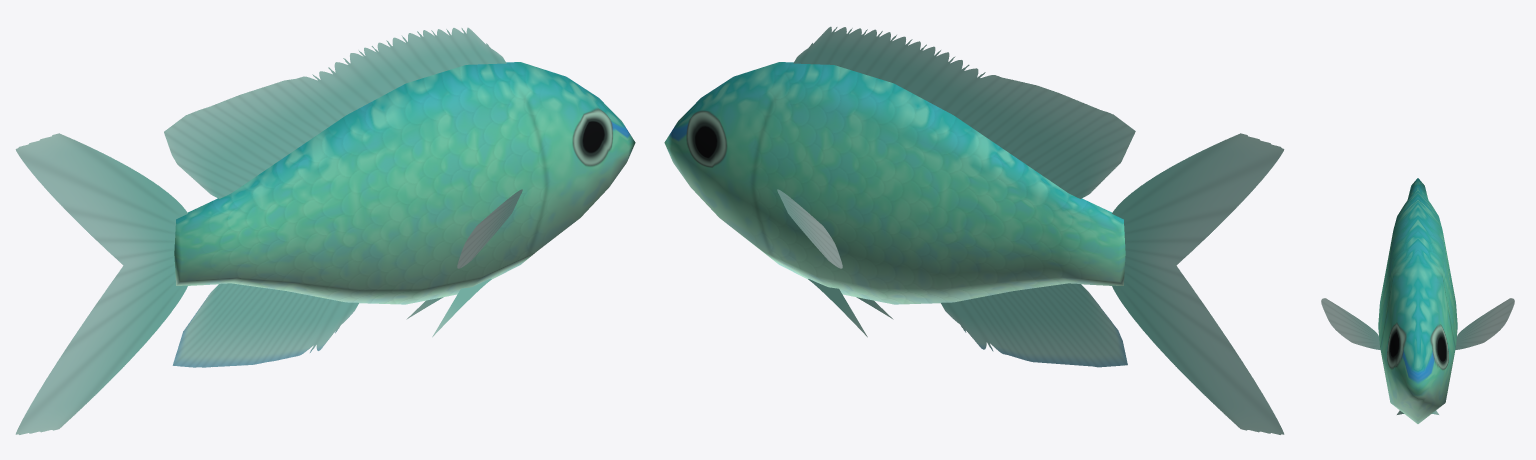
The model's file is Fish_BlueGreenChromis_B.gltf.
The picture shows the model from 3 angles, left to right: view 1: azimuth 30°, elevation 25°; view 2: azimuth 150°, elevation 25°; view 3: azimuth 270°, elevation 25°; orthographic projection. The views are drawn at different scales.
Parts seen in each view (by area): view 1: Fish_BlueGreenChromis_B; view 2: Fish_BlueGreenChromis_B; view 3: Fish_BlueGreenChromis_B.
Part boxes in pixels (x1,y1,x2,y2): Fish_BlueGreenChromis_B: [15, 27, 635, 434]; Fish_BlueGreenChromis_B: [664, 26, 1284, 434]; Fish_BlueGreenChromis_B: [1321, 178, 1514, 423].
Size of the model in its own units: 0.0685 by 0.0368 by 0.024.
1 material, 1 textured.
